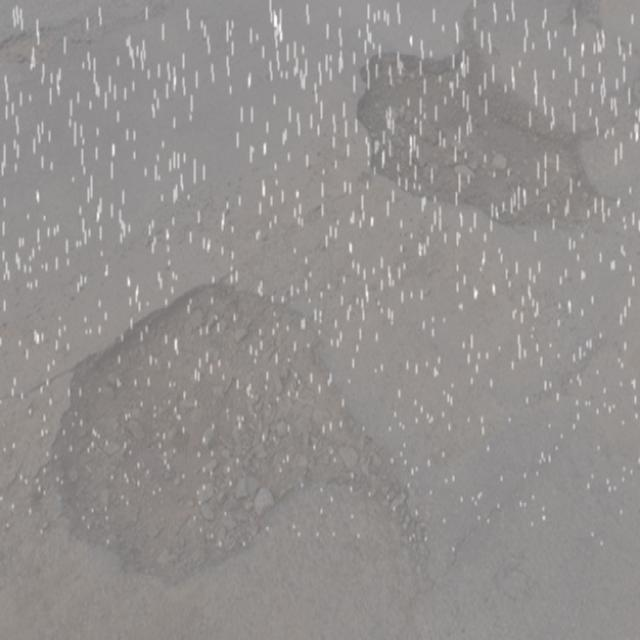Pothole: (32, 274, 438, 594), (341, 25, 640, 238)
